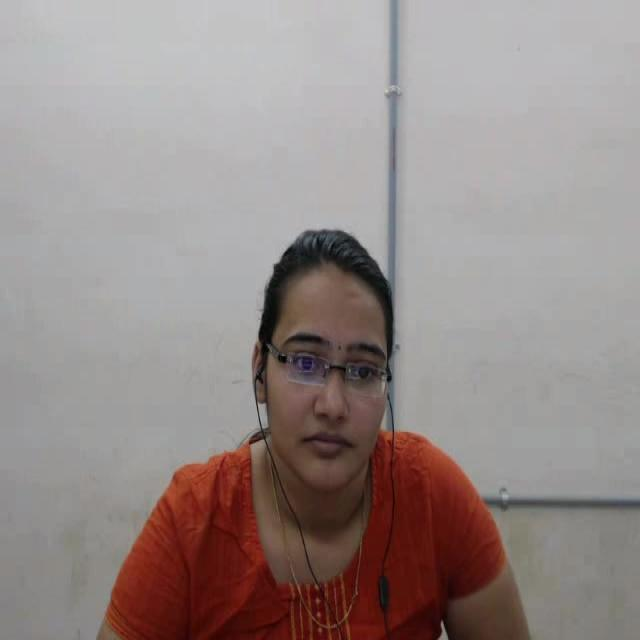Engaged: (212, 186, 422, 518)
